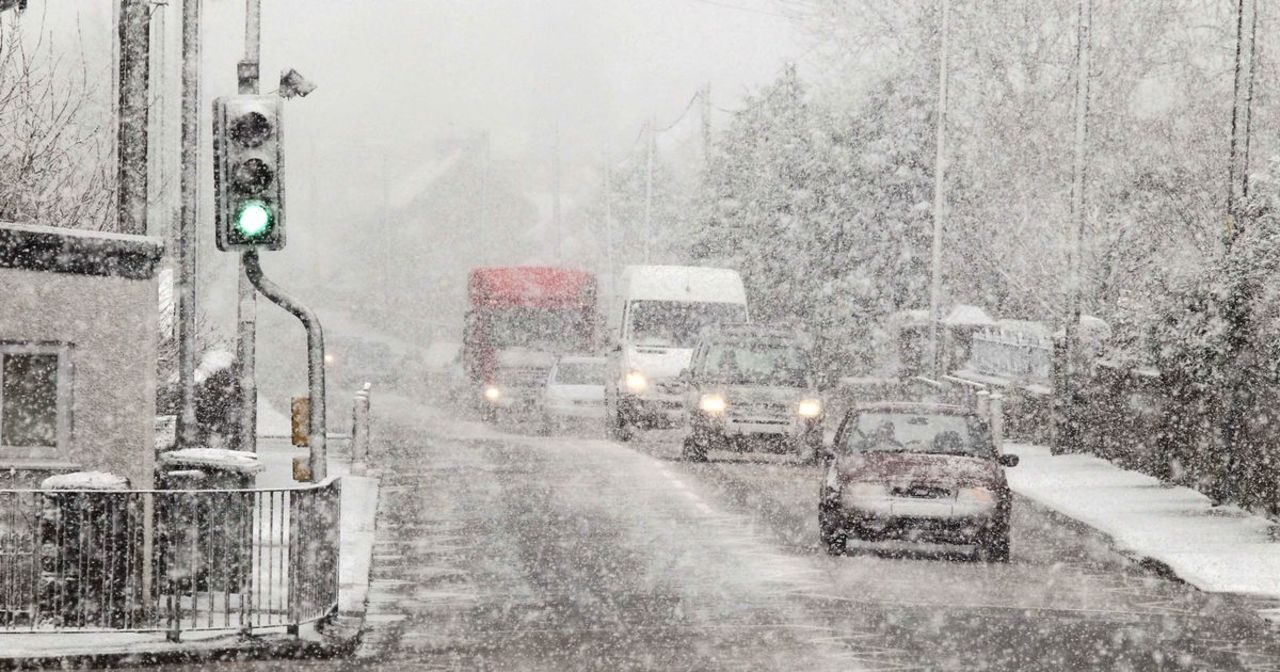car: (815, 376, 1014, 575), (617, 271, 749, 429), (683, 326, 822, 458), (544, 353, 621, 430), (483, 358, 555, 430), (426, 348, 466, 407), (344, 342, 400, 384)
truck: (464, 265, 609, 430)
